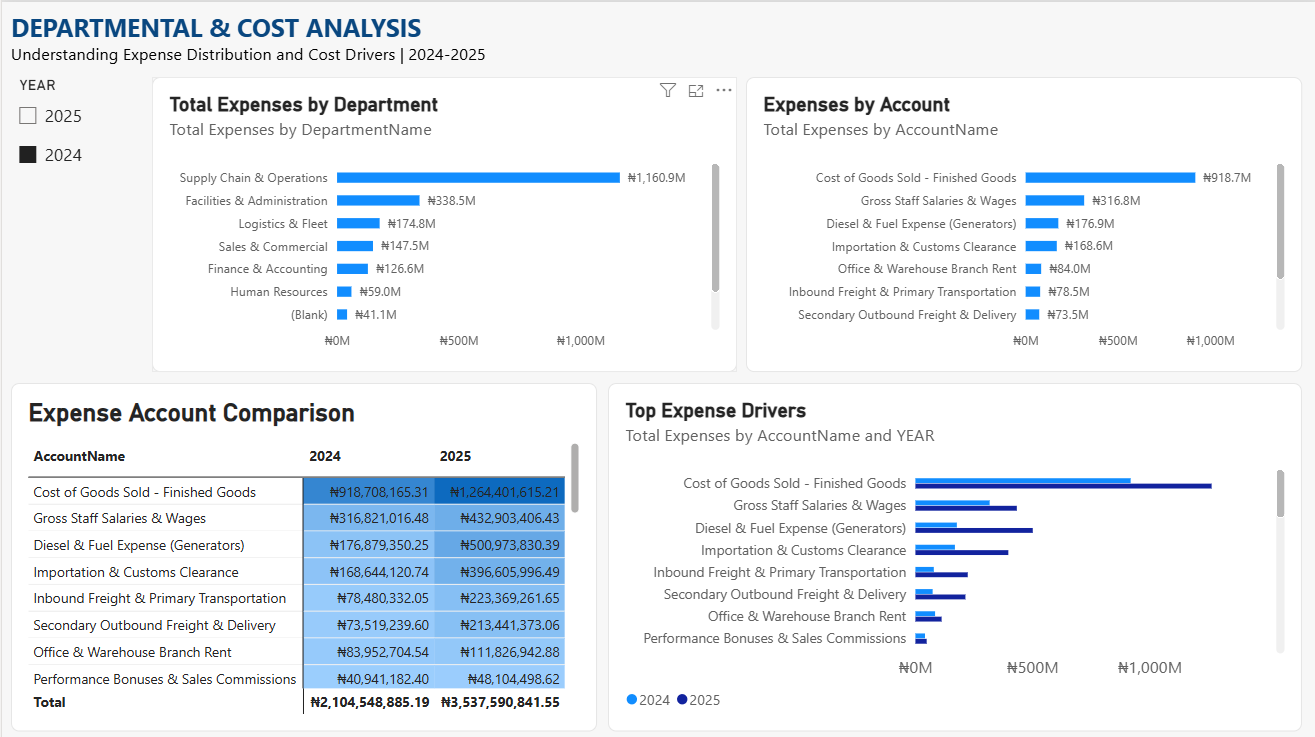

The page's visual inventory and layout, read from the dashboard file:
{"tool":"powerbi","page":{"name":"Departmental & Cost Analysis","canvas":[1280,720],"ordinal":2},"visuals":[{"type":"clusteredBarChart","title":"Total Expenses by Department","fields":{"Category":["DimDepartment.DepartmentName"],"Y":["FactFinancialTransactions.Total Expenses"]},"box":[145.9,72.9,569,286.9],"z":0},{"type":"slicer","fields":{"Values":["DimDate.YEAR"]},"box":[8.8,72.9,129,108],"z":1000},{"type":"clusteredBarChart","title":"Expenses by Account","fields":{"Category":["DimAccount.AccountName"],"Y":["FactFinancialTransactions.Total Expenses"]},"box":[723.6,72.9,540.8,286.9],"z":2000},{"type":"pivotTable","title":"Expense Account Comparison","fields":{"Columns":["DimDate.YEAR"],"Rows":["DimAccount.AccountName"],"Values":["FactFinancialTransactions.Total Expenses"]},"box":[8.8,370.6,570,339],"z":3000},{"type":"clusteredBarChart","title":"Top Expense Drivers","fields":{"Category":["DimAccount.AccountName"],"Series":["DimDate.YEAR"],"Y":["FactFinancialTransactions.Total Expenses"]},"box":[589,371,675,339],"z":4000},{"type":"textbox","box":[8.8,7.8,602.1,65.2],"z":4001}]}

Visuals, with their boxes in screenshot pixels (x1, y1, x2, y2), scaled from the page's 1280x720 canvas onto the 1315x737 screenshot:
"Total Expenses by Department" clusteredBarChart: box=[150, 75, 734, 368]
slicer - DimDate.YEAR: box=[9, 75, 142, 185]
"Expenses by Account" clusteredBarChart: box=[743, 75, 1299, 368]
"Expense Account Comparison" pivotTable: box=[9, 379, 595, 726]
"Top Expense Drivers" clusteredBarChart: box=[605, 380, 1299, 727]
textbox: box=[9, 8, 628, 75]
